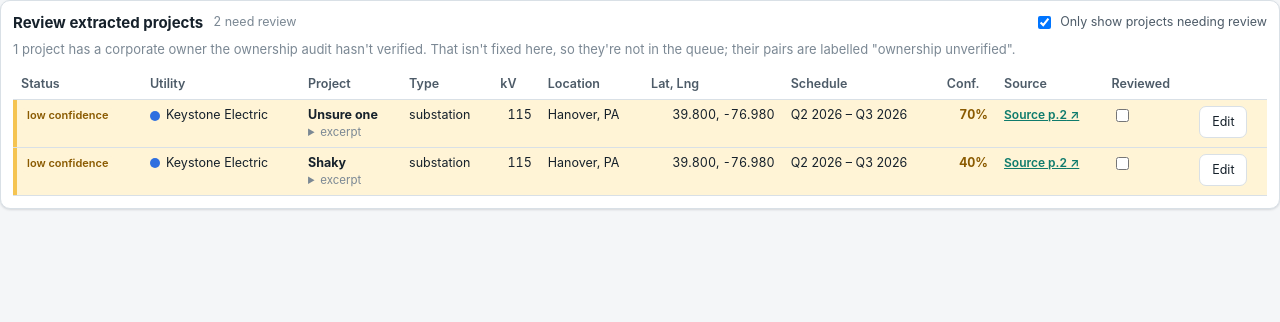
it: ReviewTable (Req 3.3, 13.1-13.3) › leaves unverified ownership out of the queue but keeps it labelled when showing all
The image size is (1280, 322).
Expected: the text "2 need review" is shown, [213,13,296,32]
Expected: the text "Unverified owner" is not shown
Click the checkbox labelled "Only show projects needing review".
click(1045, 22)  # box [1038,16,1051,29]
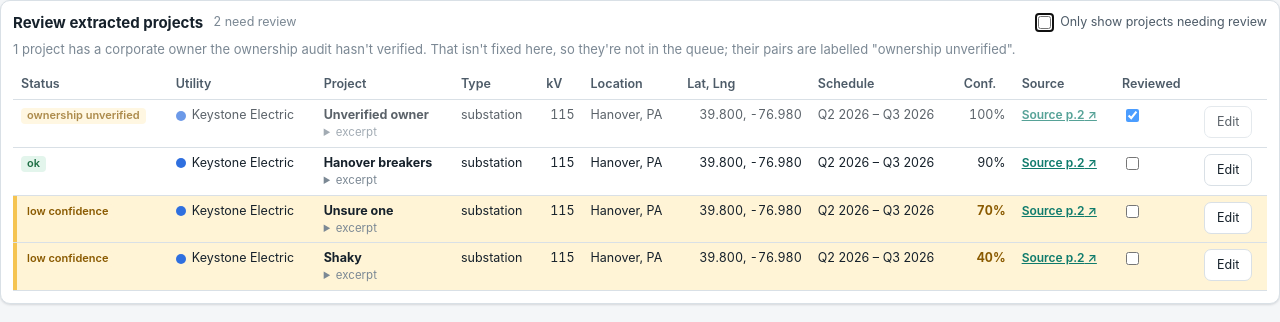
Now the text "Unverified owner" is shown, box [324,107,429,122]
Now the text "ownership unverified" is shown, box [21,108,146,124]
